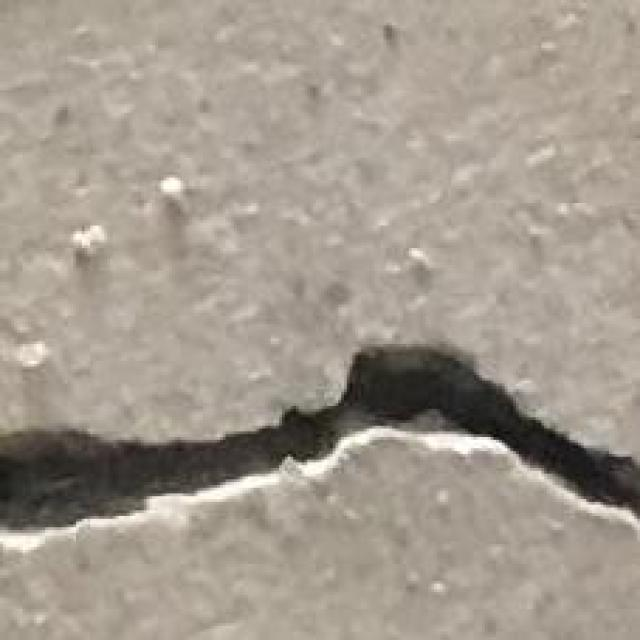curved crack: (0, 345, 639, 535)
